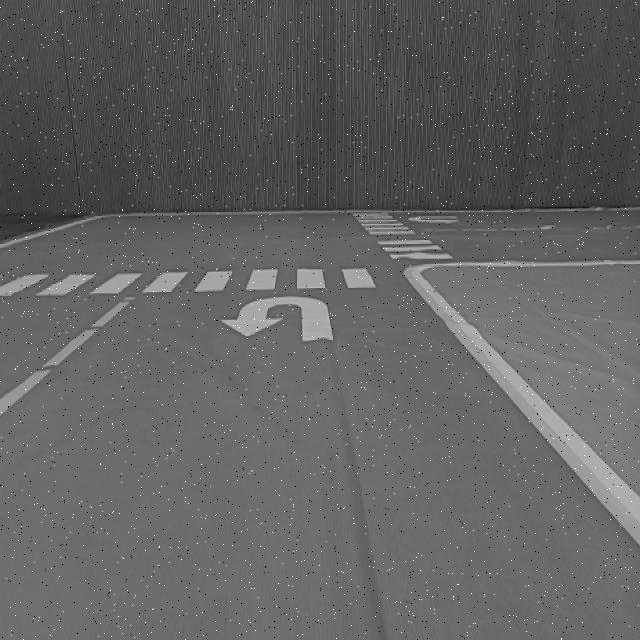left_lane: (0, 296, 135, 415)
right_lane: (405, 275, 640, 544)
